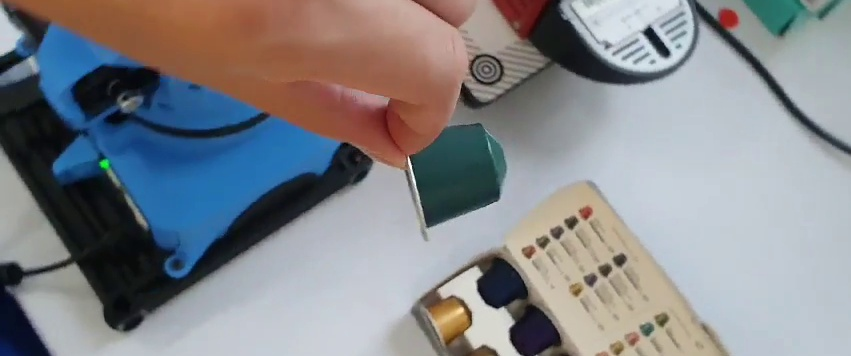capsule_13: (388, 120, 510, 238)
